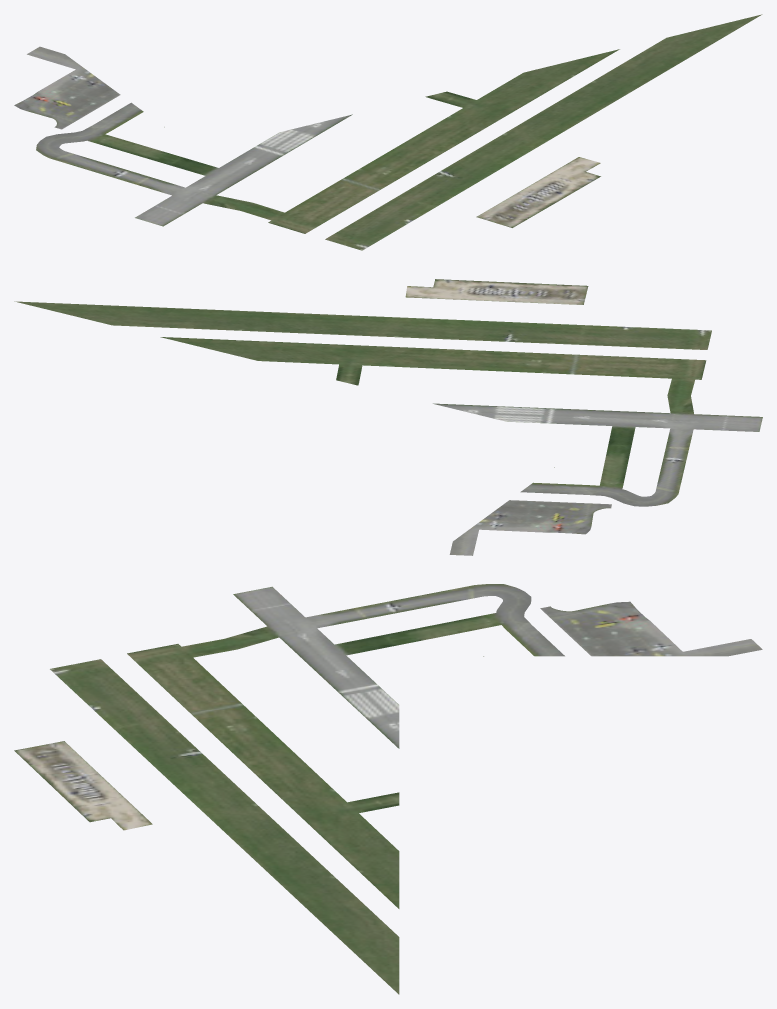
The model's file is LSZG_-1_-1.glb.
The picture shows the model from 3 angles, top to bottom: view 1: azimuth 30°, elevation 25°; view 2: azimuth 150°, elevation 25°; view 3: azimuth 270°, elevation 25°; orthographic projection. The views are drawn at different scales.
Parts seen in each view (by area): view 1: pavement_LSZG_pavement_5196_2450, pavement_LSZG_pavement_5195_2451, pavement_LSZG_pavement_5195_2450; view 2: pavement_LSZG_pavement_5196_2450, pavement_LSZG_pavement_5195_2451, pavement_LSZG_pavement_5195_2450; view 3: pavement_LSZG_pavement_5196_2450, pavement_LSZG_pavement_5195_2451, pavement_LSZG_pavement_5195_2450.
Boxes of the visible parts, x1,y1,x2,y2 form: pavement_LSZG_pavement_5196_2450: [220, 14, 762, 250]; pavement_LSZG_pavement_5195_2451: [14, 46, 179, 174]; pavement_LSZG_pavement_5195_2450: [105, 156, 307, 233]; pavement_LSZG_pavement_5196_2450: [14, 279, 711, 425]; pavement_LSZG_pavement_5195_2451: [449, 446, 684, 555]; pavement_LSZG_pavement_5195_2450: [608, 360, 762, 464]; pavement_LSZG_pavement_5196_2450: [14, 656, 399, 994]; pavement_LSZG_pavement_5195_2451: [399, 584, 762, 656]; pavement_LSZG_pavement_5195_2450: [127, 586, 399, 656].
Size of the model in its own units: 516 by 0.1582 by 397.
Materials: 1 (1 with a texture image).
